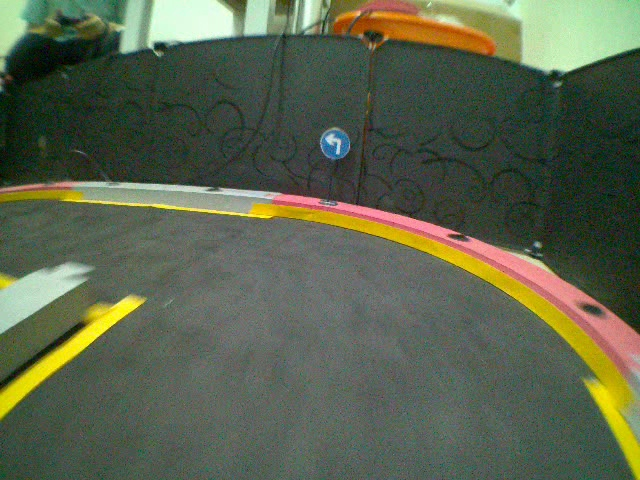turn: (319, 125, 352, 160)
